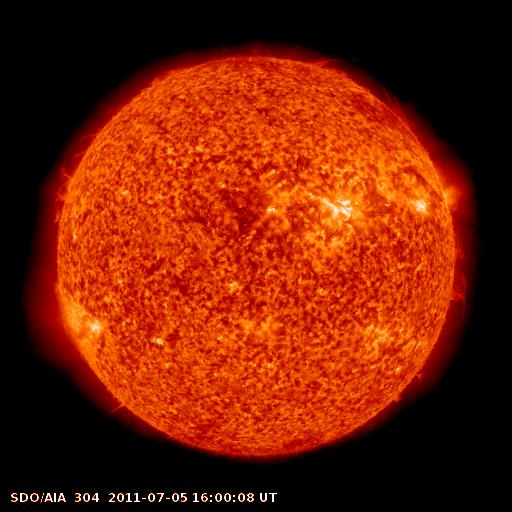prominence: (301, 47, 409, 122), (50, 121, 104, 226), (448, 229, 472, 311)
